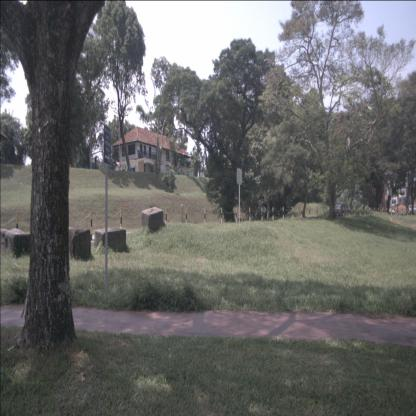human-pedestrian-adult: (94, 154, 99, 170)
vehicle-car: (332, 203, 350, 217)
